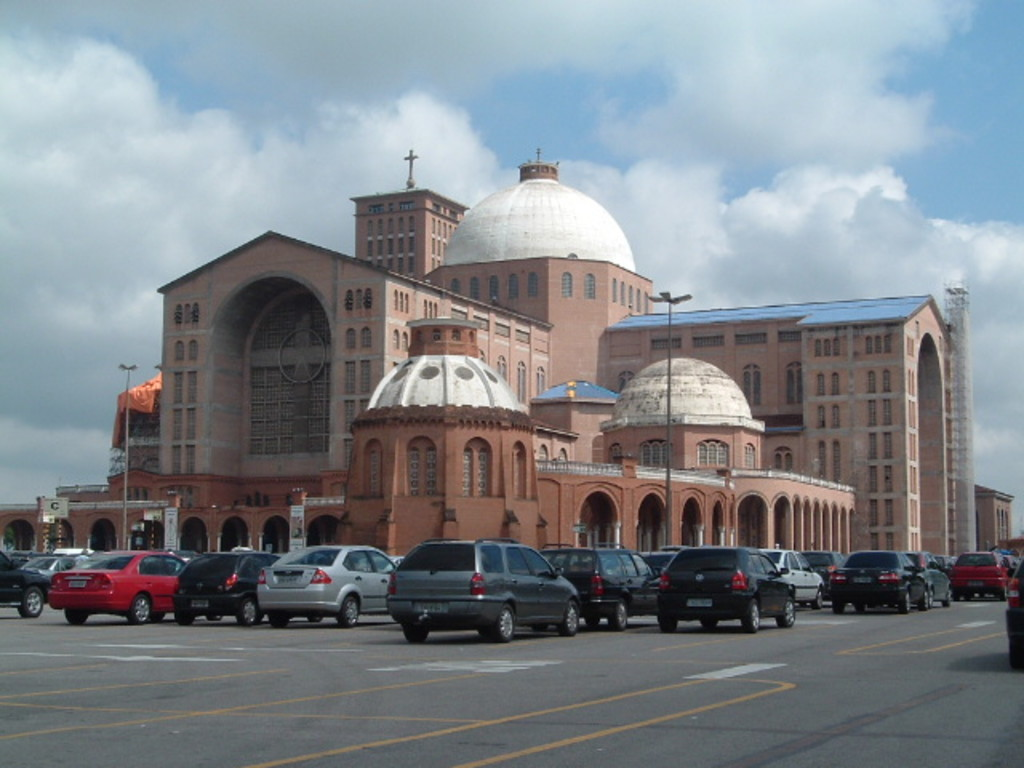Car: (0, 537, 1022, 676)
